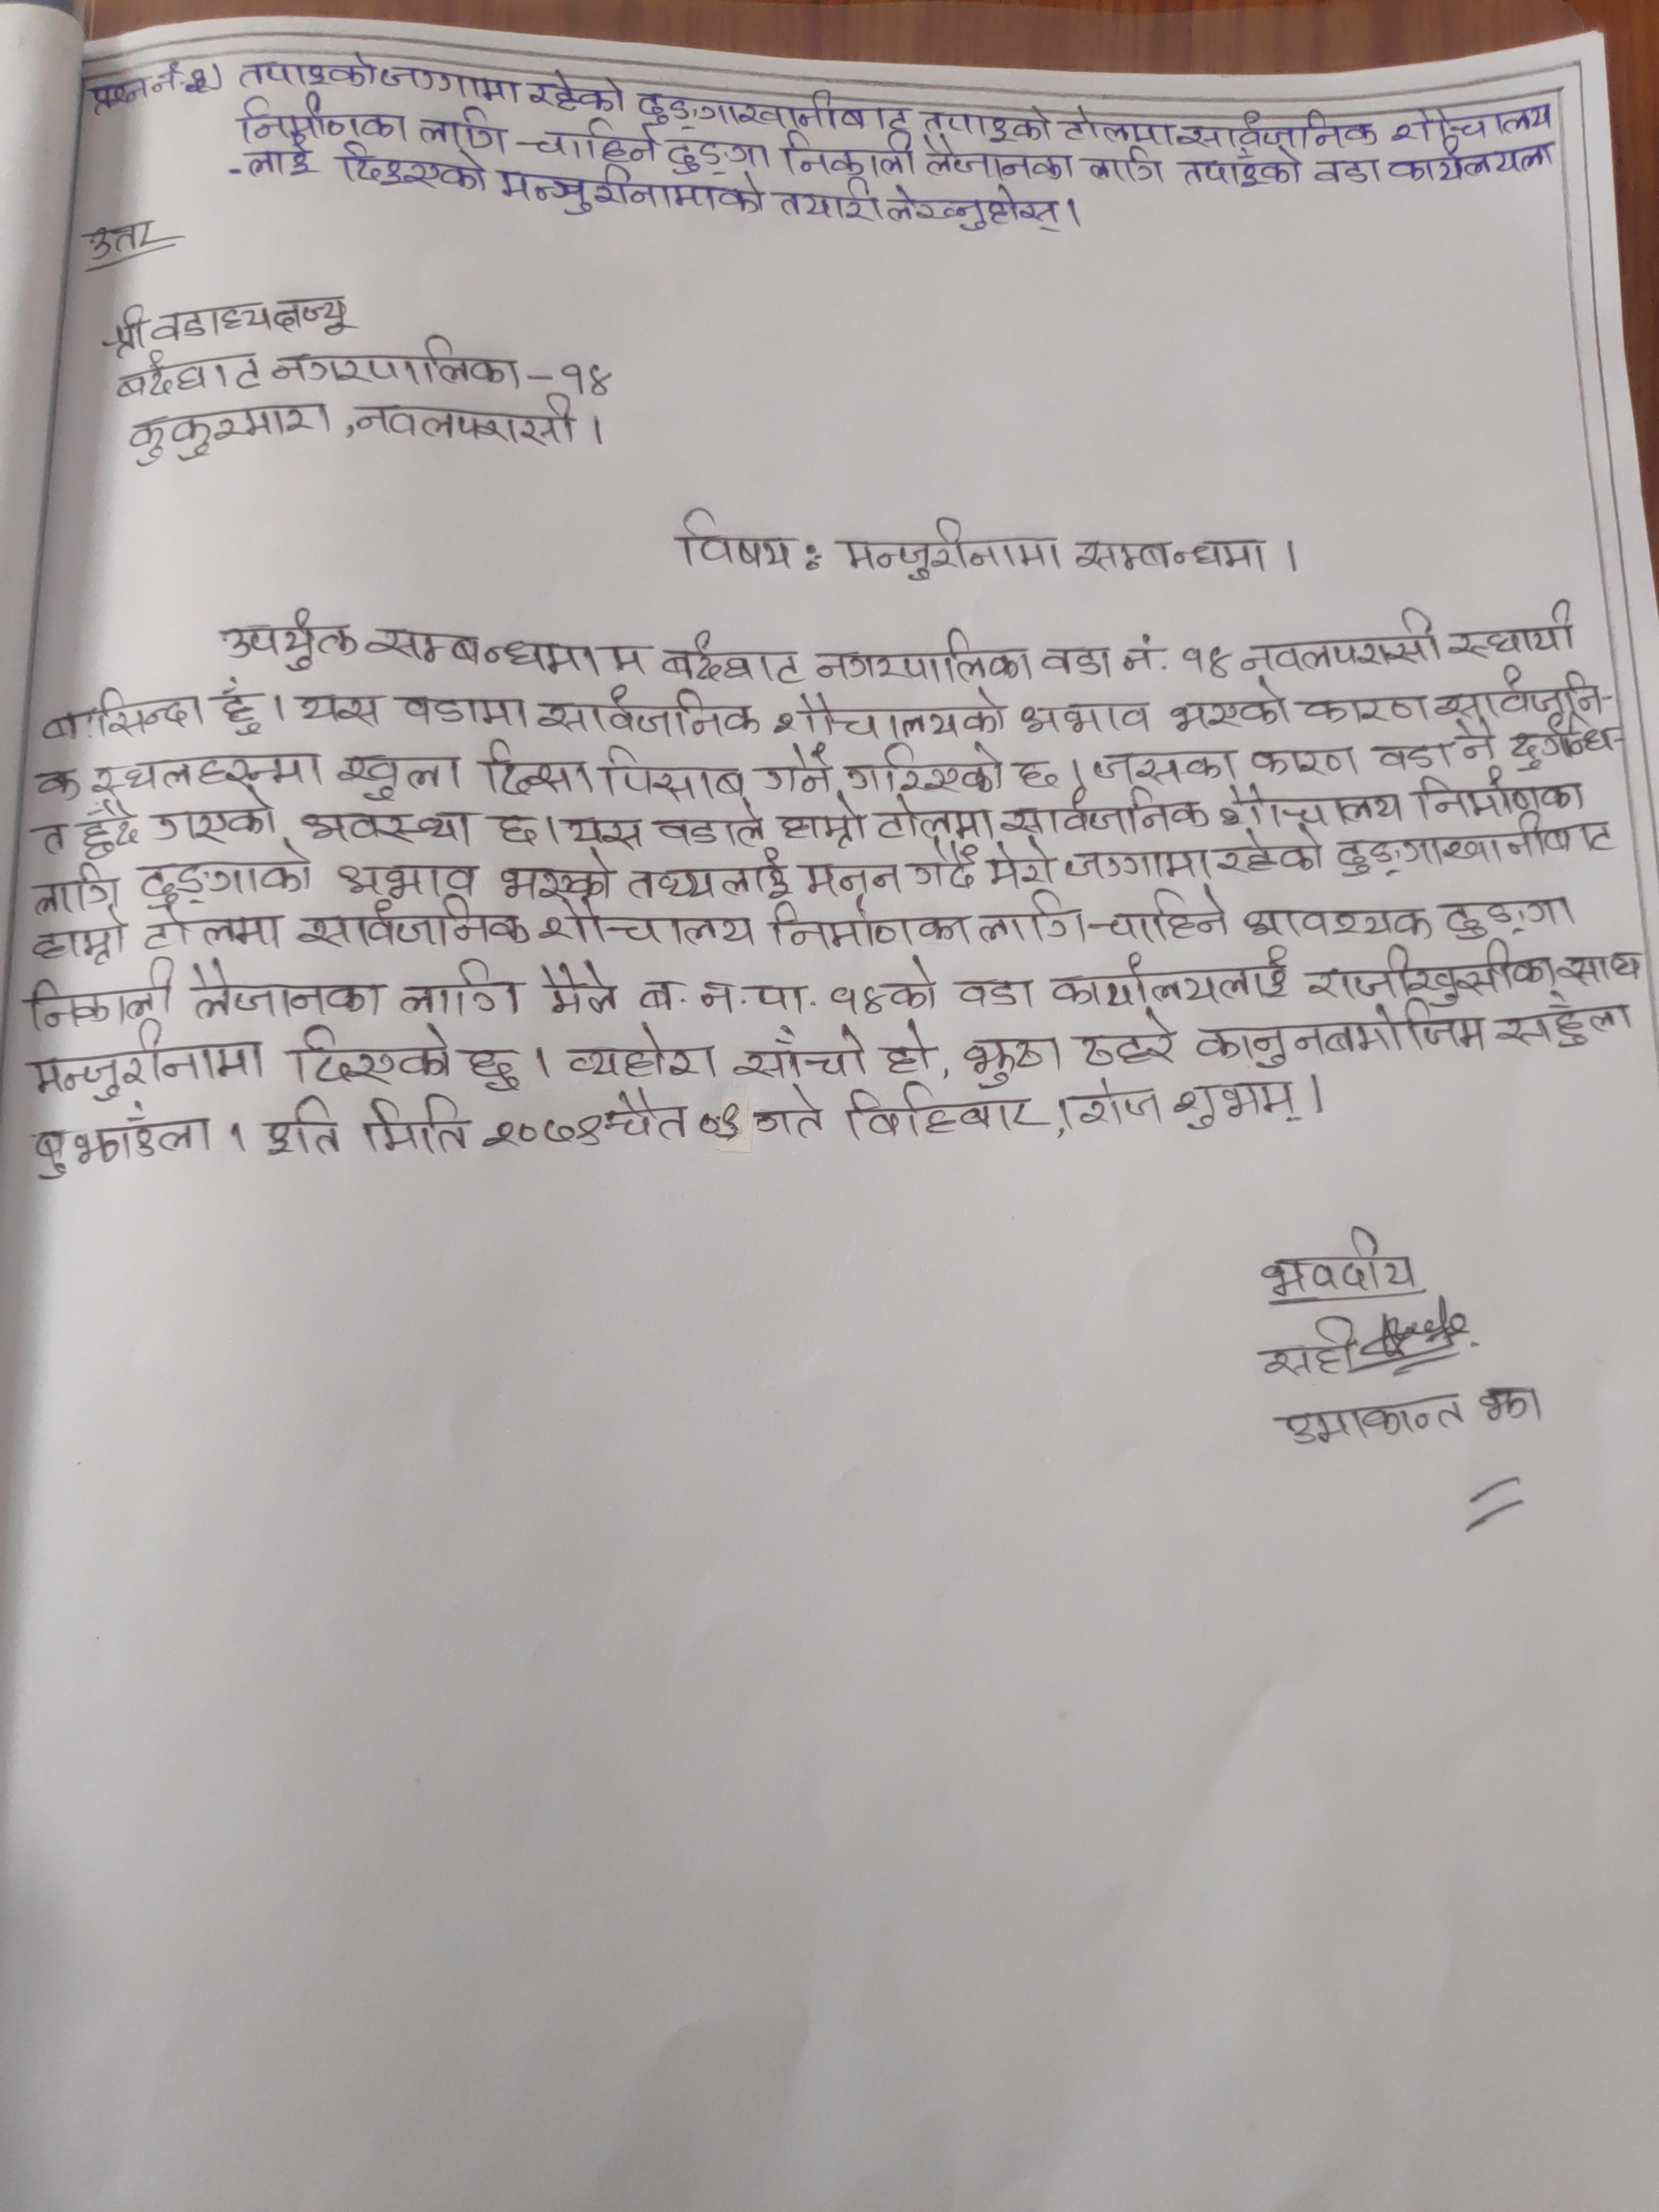text: (1331, 810, 1622, 880), (1194, 1000, 1490, 1068), (24, 1031, 272, 1099), (272, 331, 526, 392), (1304, 946, 1558, 1007), (497, 162, 765, 219), (1046, 949, 1295, 1010), (845, 514, 1063, 582), (530, 681, 765, 742), (636, 84, 911, 134), (1054, 829, 1330, 880), (295, 895, 537, 951), (31, 1106, 214, 1179), (1239, 608, 1446, 672), (1253, 1226, 1427, 1303), (538, 888, 756, 949), (125, 401, 333, 463), (87, 745, 331, 798), (816, 625, 1037, 683), (190, 956, 387, 1021), (369, 625, 601, 679), (289, 1015, 458, 1089), (354, 394, 587, 446), (132, 850, 321, 909), (772, 691, 1007, 738), (24, 958, 173, 1031), (763, 899, 974, 949), (1279, 1388, 1464, 1446), (999, 791, 1215, 838), (884, 181, 1065, 237), (1089, 880, 1234, 949), (556, 1022, 718, 1083), (838, 1085, 1044, 1132), (37, 685, 207, 740), (235, 91, 410, 145), (840, 740, 1011, 794), (148, 298, 357, 341), (732, 1021, 873, 1083), (300, 801, 474, 852), (1234, 904, 1436, 948), (660, 634, 809, 693), (598, 740, 746, 799), (1446, 597, 1579, 664), (1178, 108, 1377, 152), (1406, 773, 1588, 820), (335, 145, 491, 199), (221, 611, 356, 674), (1436, 667, 1608, 716), (1384, 138, 1560, 185), (1215, 786, 1412, 827), (106, 348, 261, 401), (634, 975, 819, 1019), (622, 853, 793, 900), (399, 956, 523, 1021), (671, 509, 791, 575), (1493, 995, 1631, 1052), (1073, 535, 1272, 573), (777, 127, 922, 179), (917, 136, 1077, 183), (335, 744, 465, 801), (359, 1092, 472, 1158), (136, 906, 289, 954), (153, 792, 282, 850), (1166, 679, 1298, 735), (479, 737, 596, 799), (1255, 1317, 1363, 1383), (1171, 1080, 1304, 1132), (974, 892, 1091, 951), (385, 61, 526, 110), (1389, 101, 1558, 141), (1438, 892, 1575, 941), (497, 845, 617, 900), (1507, 711, 1614, 773), (336, 855, 479, 900), (871, 791, 997, 841), (1014, 695, 1154, 740), (232, 49, 380, 91), (523, 118, 664, 162), (1054, 1076, 1164, 1132), (1073, 1010, 1180, 1068), (647, 799, 767, 850), (1086, 749, 1241, 787), (481, 1111, 603, 1158), (30, 909, 132, 965), (530, 960, 622, 1021), (401, 686, 530, 730), (263, 1096, 350, 1160), (26, 860, 122, 918), (918, 103, 1054, 143), (962, 1033, 1060, 1089), (666, 131, 774, 179), (1182, 150, 1307, 192), (779, 178, 885, 226), (1297, 693, 1436, 730), (755, 740, 838, 799), (1248, 740, 1361, 784), (606, 1085, 688, 1144), (530, 70, 633, 117), (749, 1080, 824, 1144), (774, 803, 873, 850), (1060, 105, 1171, 146), (978, 834, 1060, 888), (413, 106, 511, 152), (558, 806, 647, 853), (795, 862, 908, 899), (1556, 948, 1643, 995), (911, 836, 979, 894), (460, 1040, 530, 1094), (1079, 146, 1168, 188), (78, 803, 141, 860), (955, 970, 1040, 1012), (82, 221, 174, 260), (1037, 639, 1117, 683), (1305, 152, 1387, 193), (298, 686, 380, 728), (1364, 733, 1452, 772), (242, 141, 321, 181), (1474, 1385, 1546, 1428), (890, 956, 945, 1014), (211, 679, 263, 738), (882, 1019, 934, 1078), (99, 301, 155, 355), (828, 975, 889, 1019), (559, 354, 613, 402), (692, 1103, 746, 1148), (1178, 641, 1234, 685), (1119, 629, 1162, 683), (85, 77, 148, 113), (493, 806, 540, 855), (1009, 749, 1060, 794), (1448, 719, 1499, 763), (26, 763, 82, 801), (31, 820, 70, 860), (608, 641, 648, 678), (148, 63, 181, 94)
